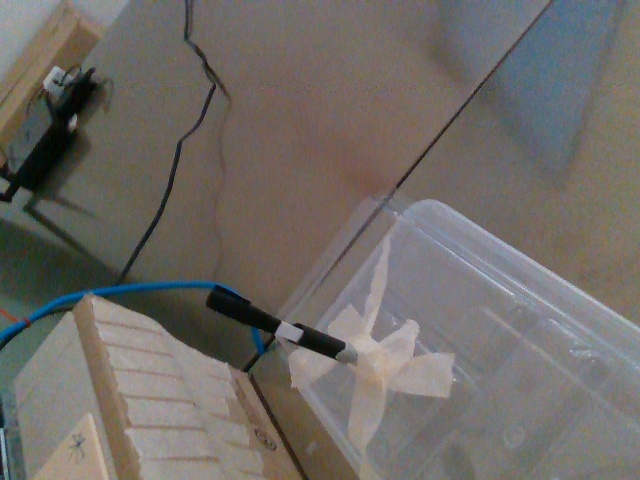test_strip: (203, 282, 303, 342)
